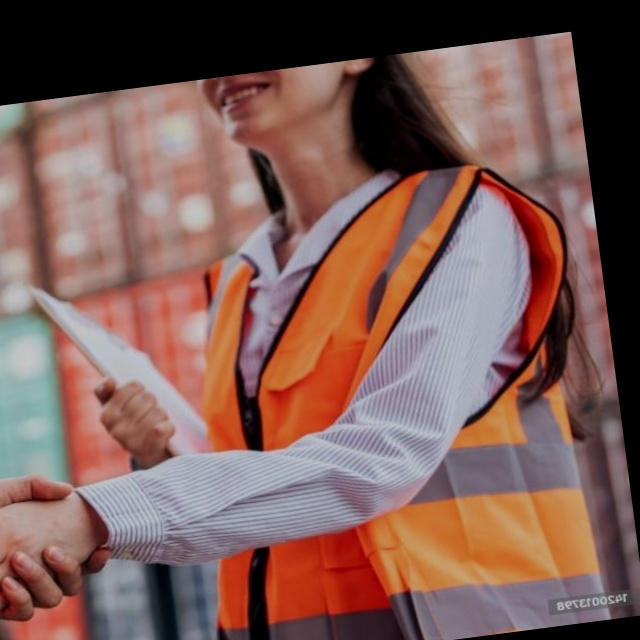Con_Chaleco: (165, 154, 634, 640)
